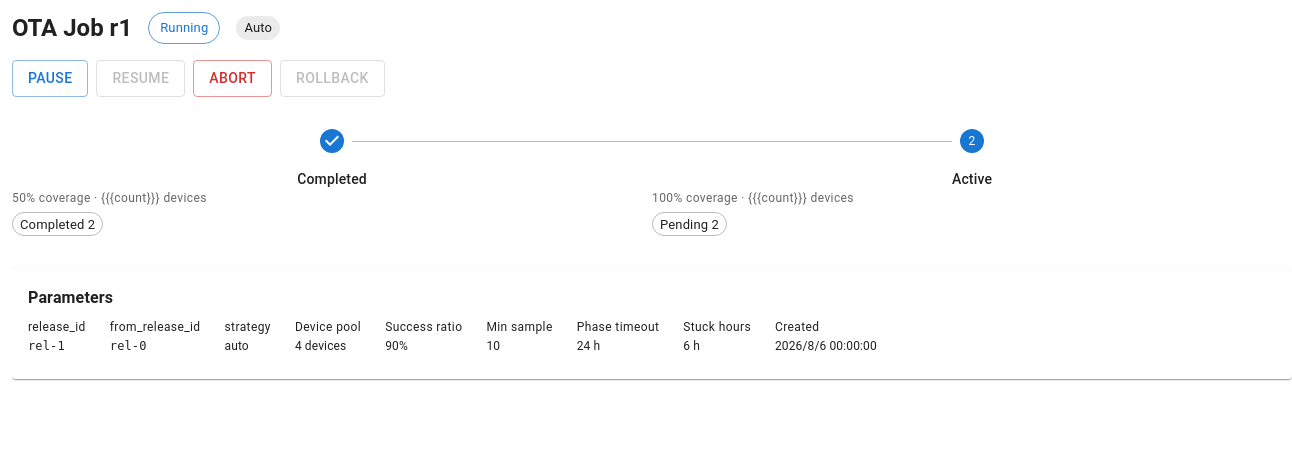
Test: RolloutDetailPage › shows an error banner when an action fails
The image size is (1292, 462).
Click the button "Pause". click: {"x": 50, "y": 78}
box: [12,60,88,96]
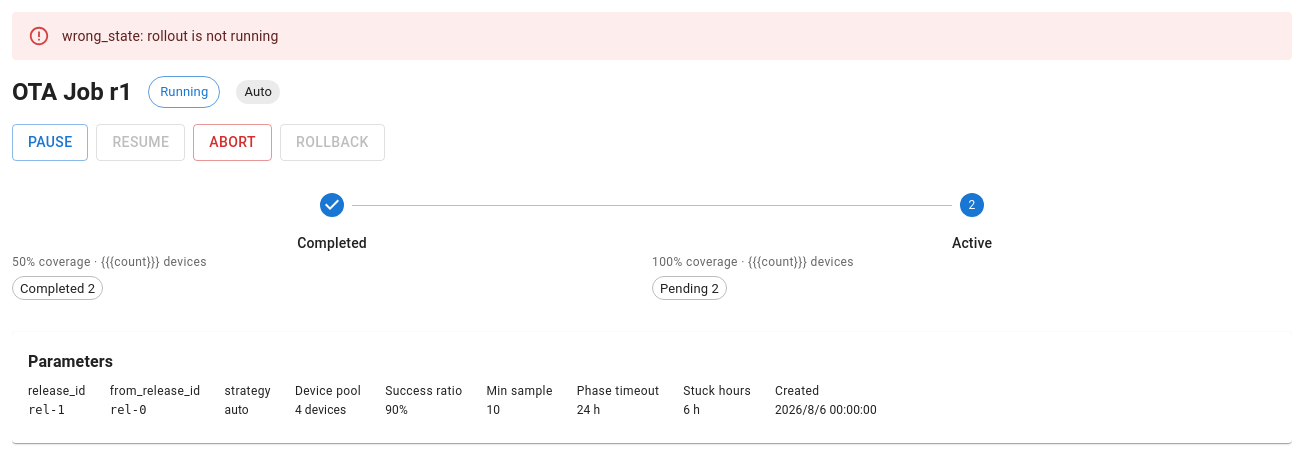
Now the text "wrong_state: rollout is not running" is shown, box [62,28,278,44]
